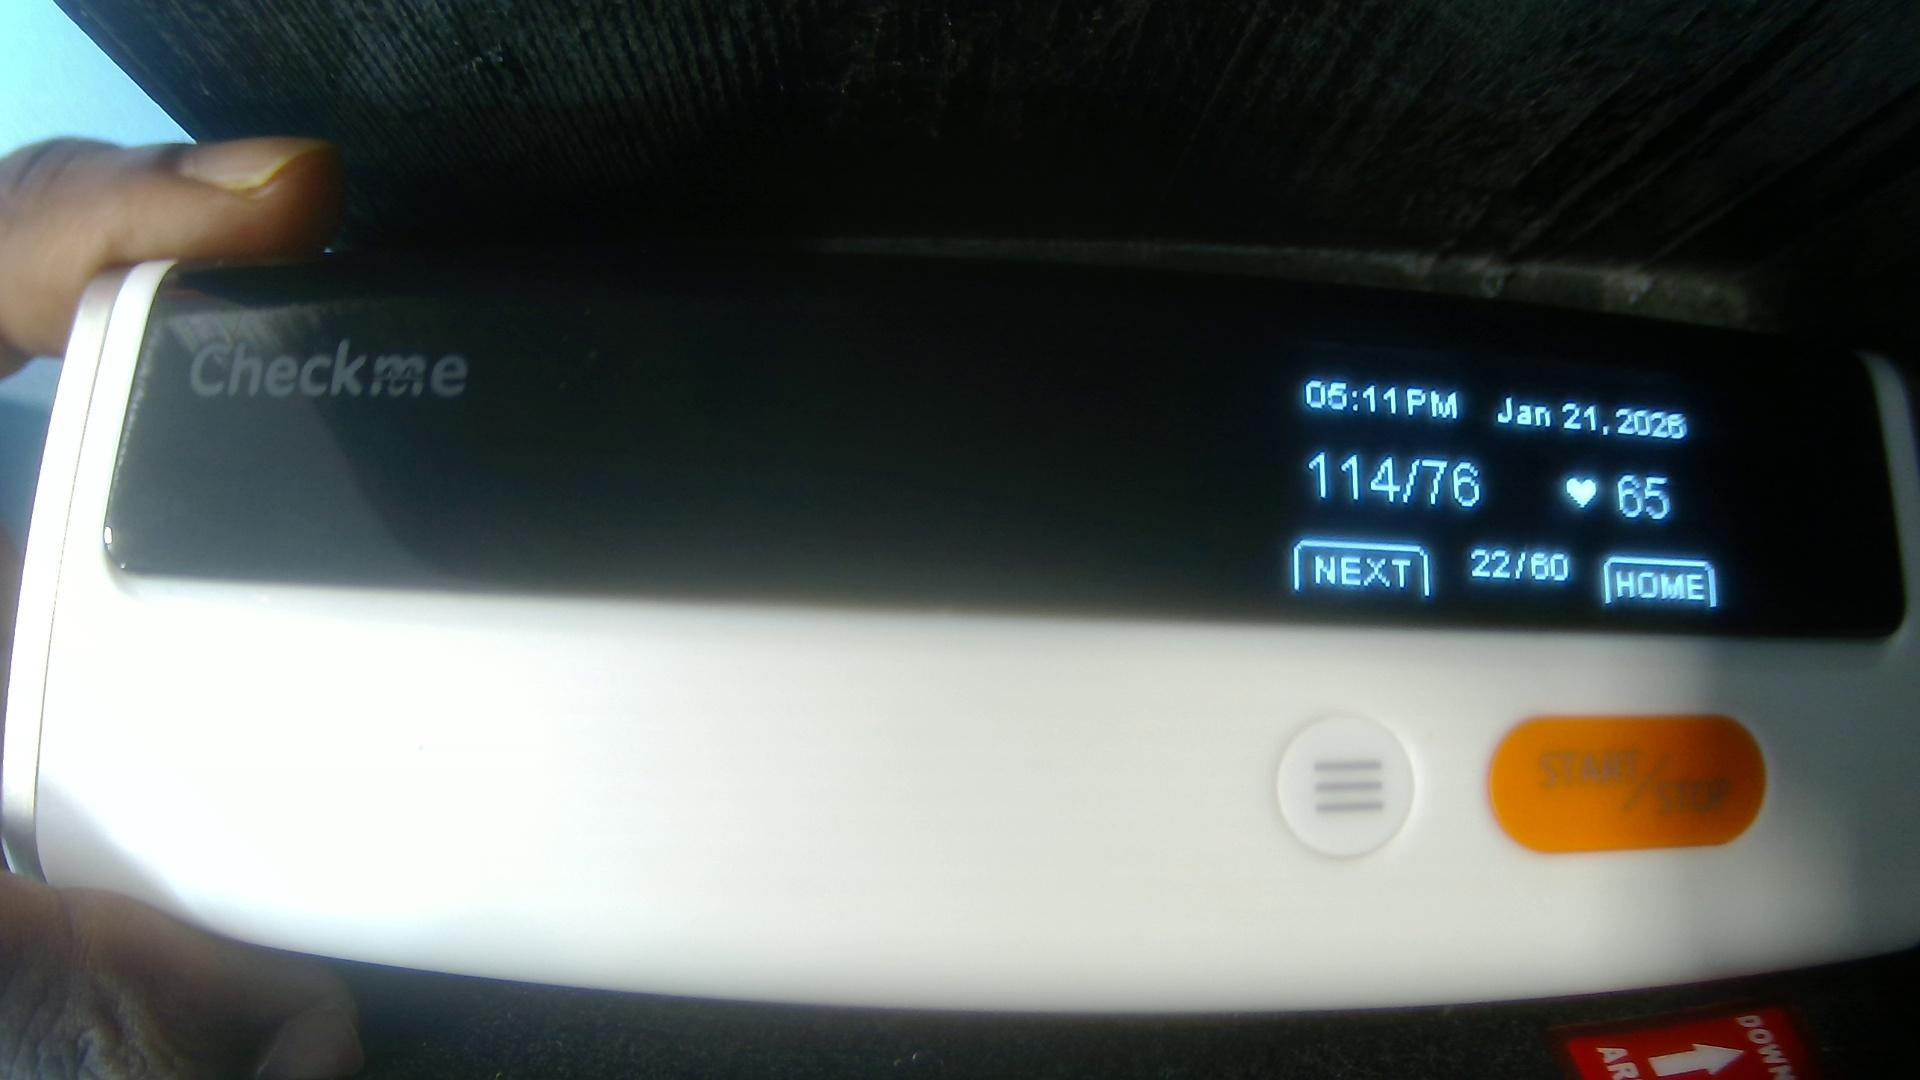DISPLAY: (124, 273, 1907, 629)
